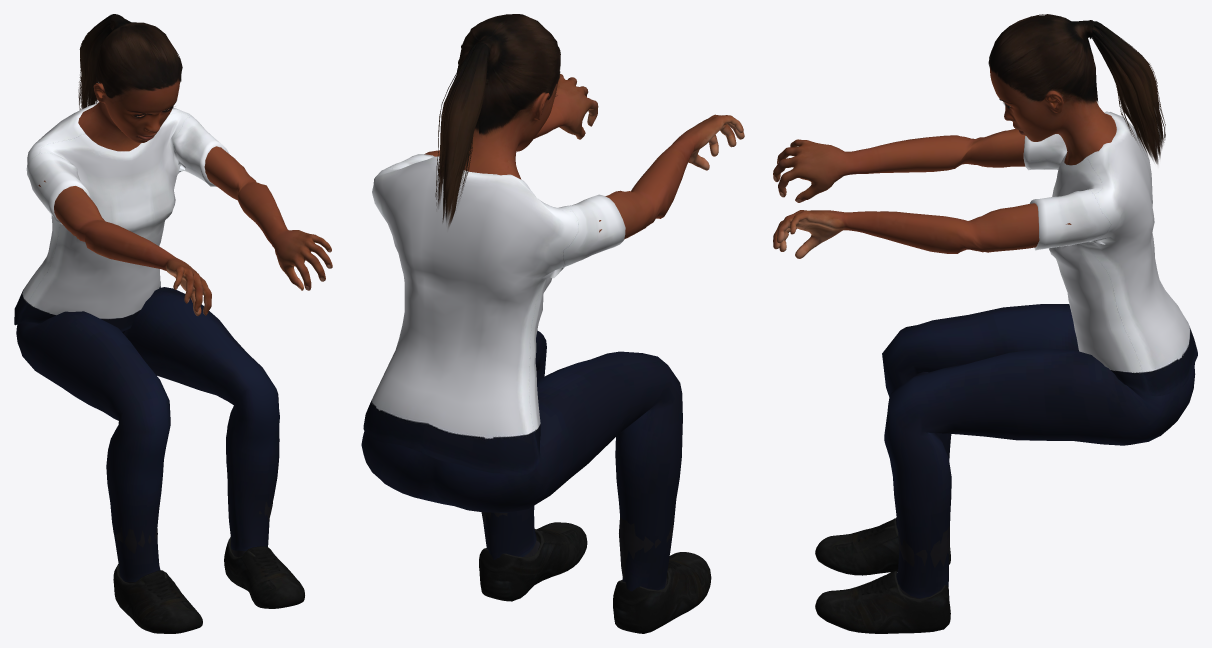
File: g2_sit_build.glb
The picture shows the model from 3 angles, left to right: view 1: azimuth 30°, elevation 25°; view 2: azimuth 150°, elevation 25°; view 3: azimuth 270°, elevation 25°; orthographic projection. The views are drawn at different scales.
Visible parts, largest first — view 1: g2.female_casualsuit01, g2, g2.shoes02, g2.ponytail01; view 2: g2.female_casualsuit01, g2.ponytail01, g2, g2.shoes02; view 3: g2.female_casualsuit01, g2, g2.ponytail01, g2.shoes02.
Boxes of the visible parts, bbox=[...] form: g2.female_casualsuit01: bbox=[14, 103, 279, 581]; g2: bbox=[38, 79, 332, 315]; g2.shoes02: bbox=[113, 498, 304, 633]; g2.ponytail01: bbox=[78, 14, 182, 109]; g2.female_casualsuit01: bbox=[361, 154, 682, 591]; g2.ponytail01: bbox=[435, 14, 560, 227]; g2: bbox=[424, 48, 744, 239]; g2.shoes02: bbox=[479, 512, 711, 633]; g2.female_casualsuit01: bbox=[882, 111, 1197, 598]; g2: bbox=[773, 53, 1116, 258]; g2.ponytail01: bbox=[988, 14, 1165, 164]; g2.shoes02: bbox=[815, 518, 950, 633].
Size of the model in its own units: 0.4078 by 1.12 by 0.7443.
Materials: 7 (7 with a texture image).
